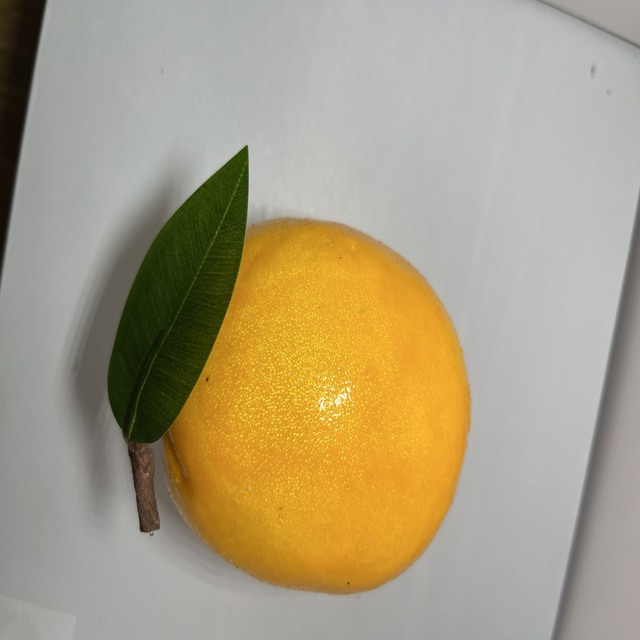Cam vang: (117, 211, 478, 601)
